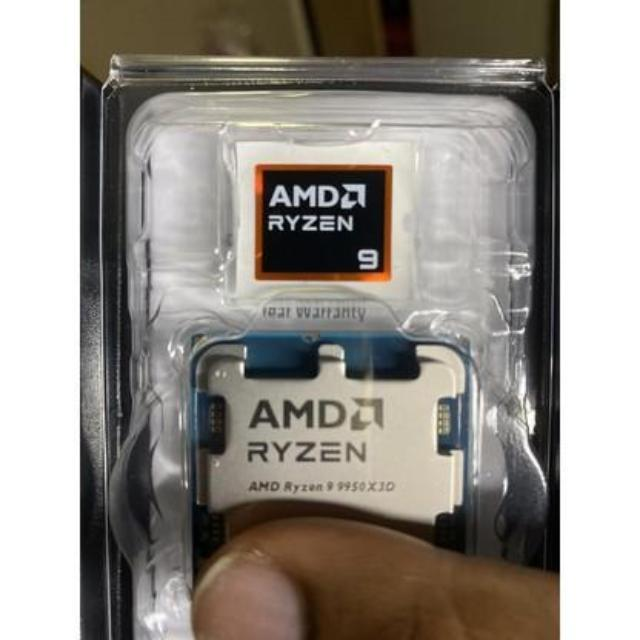CPU: (194, 328, 466, 596)
